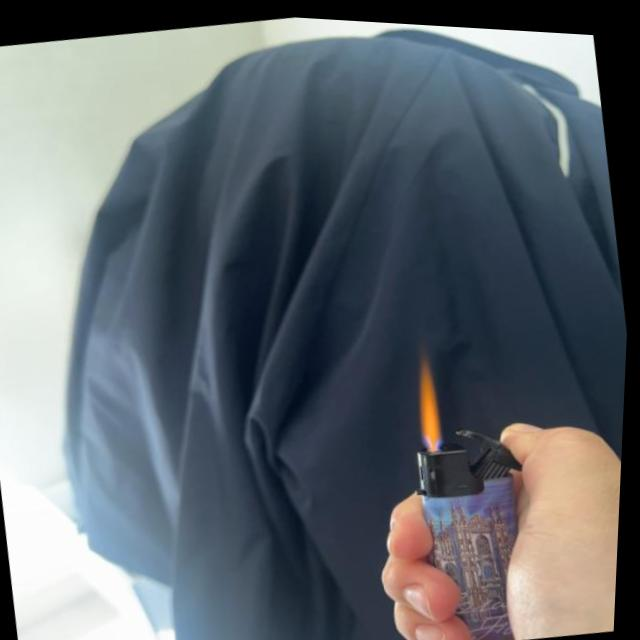Fire: (410, 350, 452, 445)
